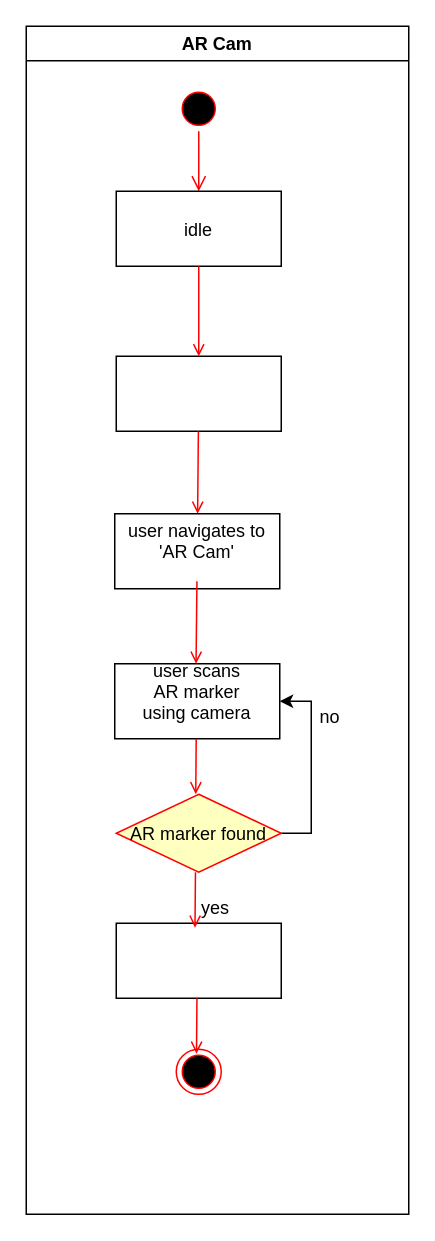
The diagram is 435 pixels wide and 1241 high, and some of its shapes have lost their labels. The centre of each missing label's shape, as x and y in pixels:
Display content: point 198,960
user opens app: point 198,393
